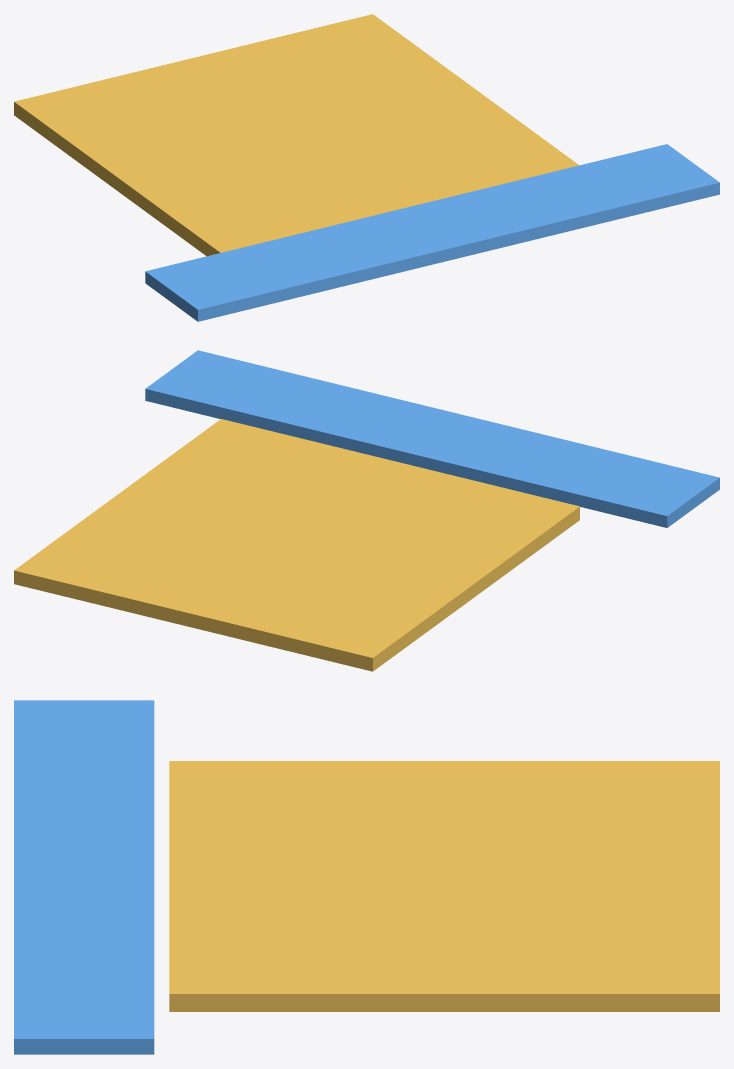
The model's file is marker.peek_angle.glb.
3 renders of one model, top to bottom at view 1: azimuth 30°, elevation 25°; view 2: azimuth 150°, elevation 25°; view 3: azimuth 270°, elevation 25°, orthographic. The views are drawn at different scales.
Visible parts, largest first — view 1: peek_disc, peek_cone; view 2: peek_disc, peek_cone; view 3: peek_disc, peek_cone.
Part boxes in pixels (bbox=[...]): peek_disc: bbox=[14, 14, 578, 256]; peek_cone: bbox=[145, 144, 719, 321]; peek_disc: bbox=[14, 419, 579, 671]; peek_cone: bbox=[145, 350, 719, 527]; peek_disc: bbox=[169, 761, 719, 1011]; peek_cone: bbox=[14, 700, 154, 1054].
Size of the model in its own units: 1.6 by 0.0575 by 1.41.
